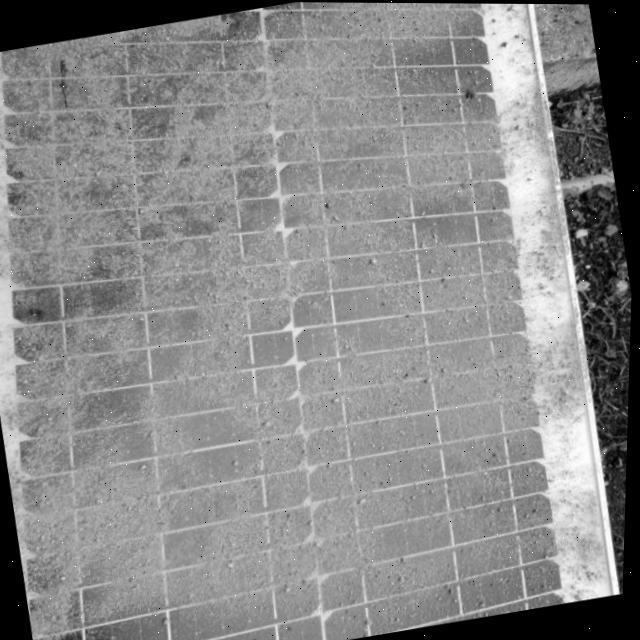Anomaly Solar Panel: (0, 0, 610, 640)
Surface Contaminant: (0, 2, 579, 640)
